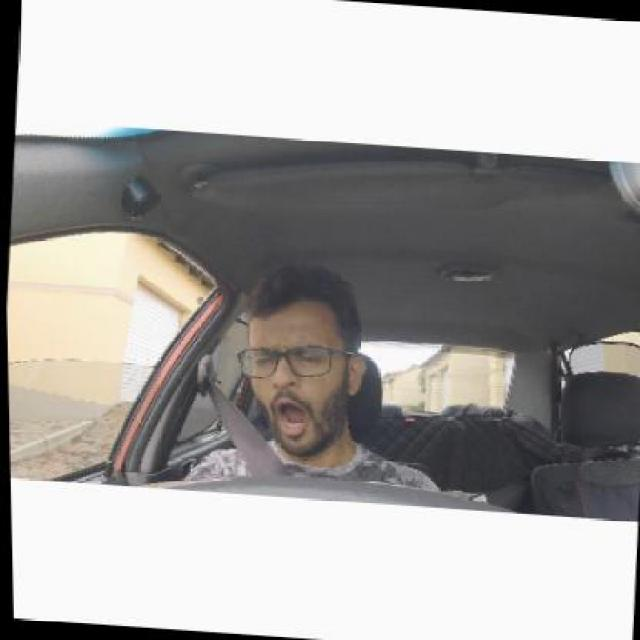drowsy: (235, 259, 374, 461)
